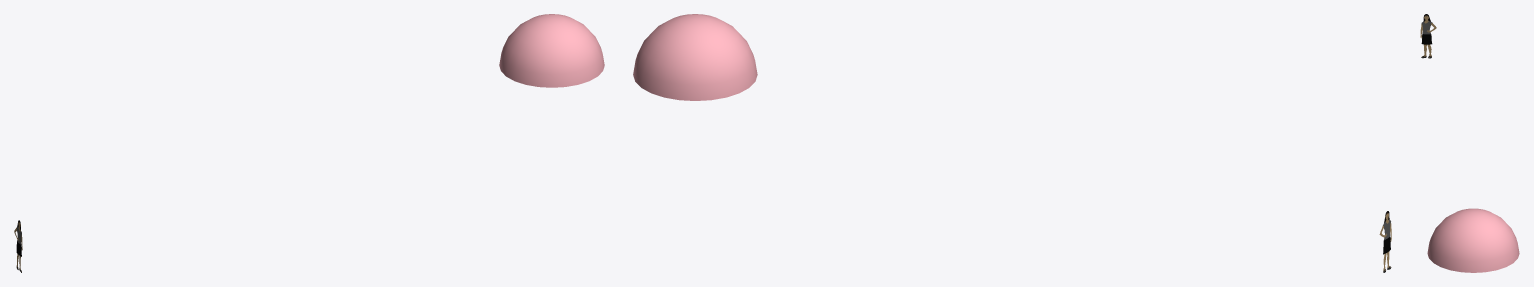
File: mucocele.dae
The picture shows the model from 3 angles, left to right: view 1: azimuth 30°, elevation 25°; view 2: azimuth 150°, elevation 25°; view 3: azimuth 270°, elevation 25°; orthographic projection. The views are drawn at different scales.
Visible parts, largest first — view 1: cupula; view 2: cupula; view 3: cupula, Sophie (×2).
Part boxes in pixels (x1,y1,x2,y2): cupula: (499, 14, 604, 87); cupula: (633, 14, 757, 100); cupula: (1427, 208, 1519, 272); Sophie (×2): (1421, 21, 1432, 44).
Size of the model in its own units: 829 by 135 by 126.
